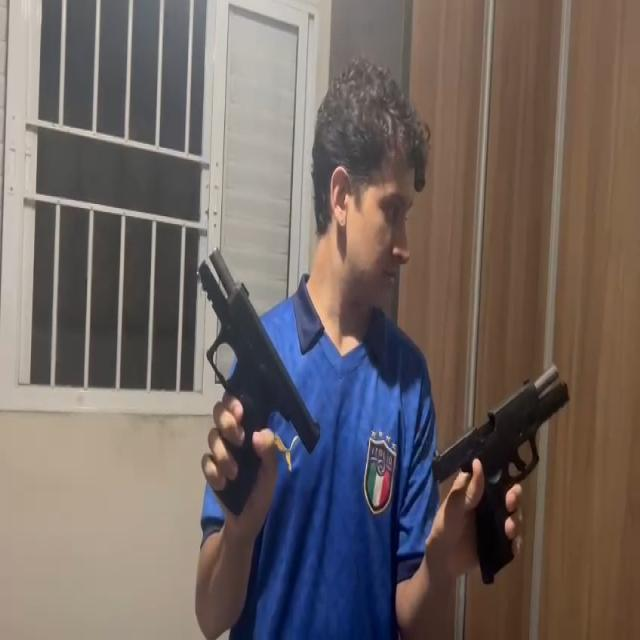guns: (196, 246, 320, 519), (430, 362, 572, 584)
